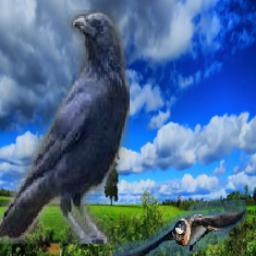Crow: (0, 11, 131, 245)
Swallow: (111, 200, 247, 256)
